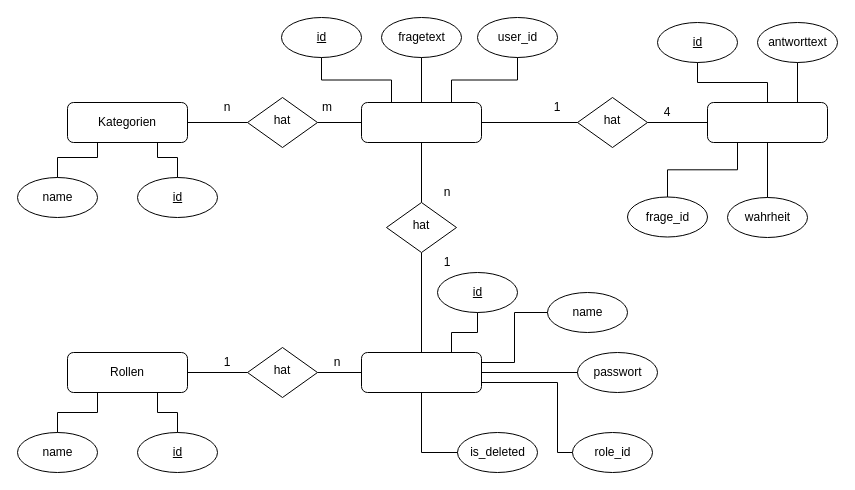
The diagram is 855 pixels wide and 490 high, and some of its shapes have lost their labels. The box of each missing label's shape, as (x1, y1, x2, y2) in pixels:
Antworten: (706, 102, 828, 142)
Fragen: (360, 102, 482, 142)
User: (360, 352, 482, 392)
